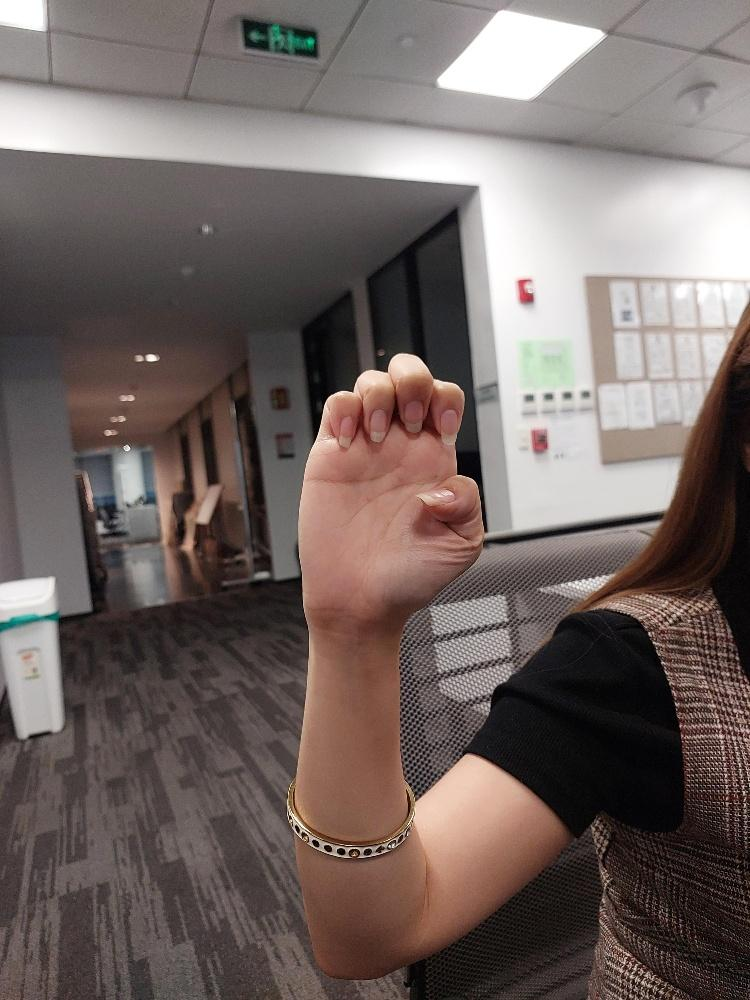e: (295, 346, 491, 635)
